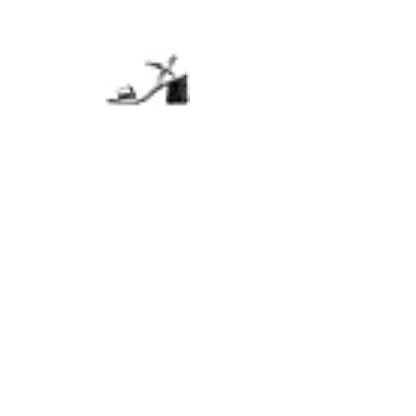Ankle_boot: (349, 292, 371, 314), (139, 401, 153, 415)
Dress: (138, 148, 166, 176)
Sandal: (67, 226, 123, 282), (220, 191, 248, 219)
T-shirt/top: (375, 28, 397, 50)
